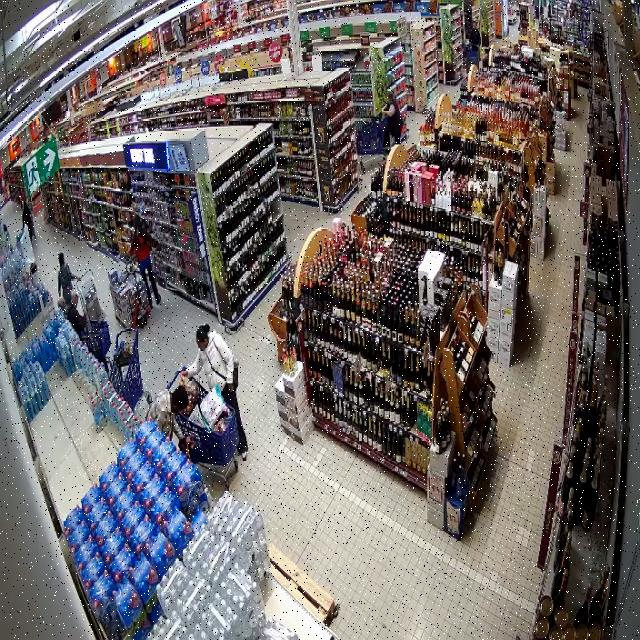bags: (232, 362, 240, 391)
hands: (225, 383, 234, 393), (178, 369, 188, 377)
person: (183, 324, 247, 459), (146, 387, 189, 446)
